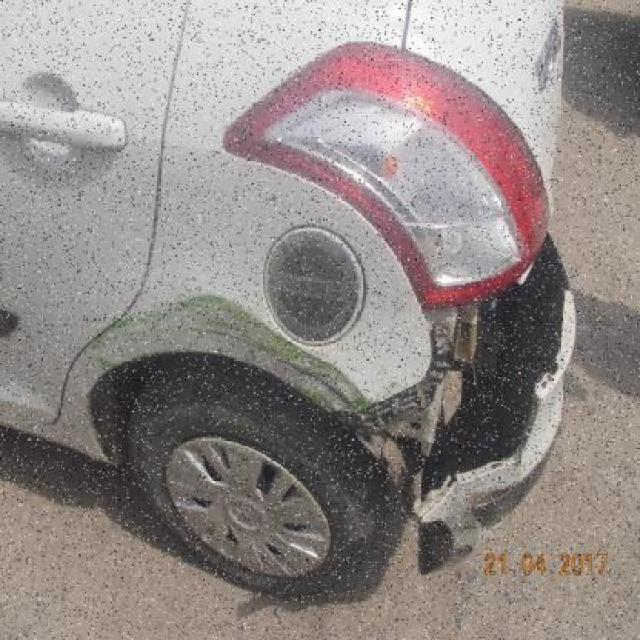quaterpanel-dent: (123, 180, 356, 606)
rear-bumper-dent: (365, 254, 623, 564)
